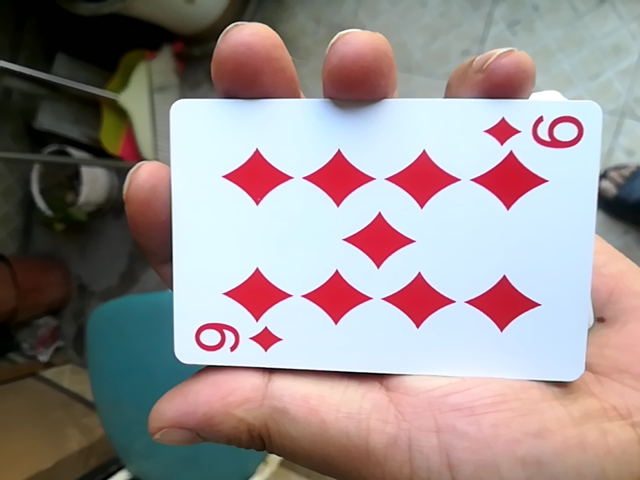fk 9: (151, 80, 615, 392)
